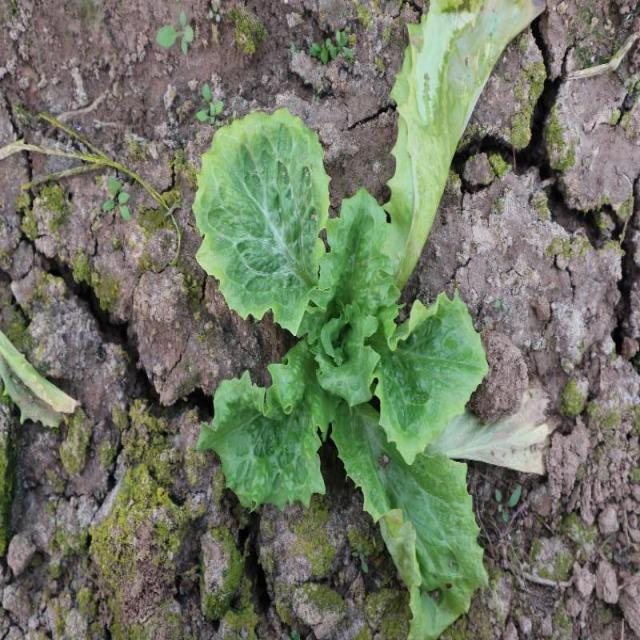crop: (191, 105, 491, 640)
